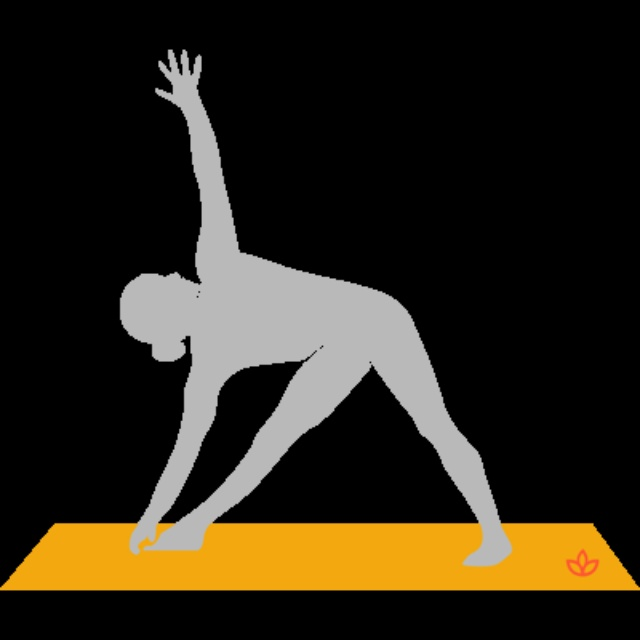Triangle_Pose: (82, 41, 529, 574)
